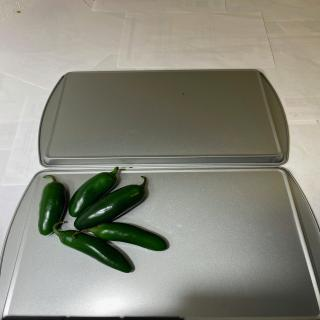Chilli: (38, 167, 170, 273), (74, 222, 169, 252)
Tomato: (52, 221, 132, 273), (74, 176, 147, 230), (68, 166, 119, 218), (38, 175, 66, 236)
